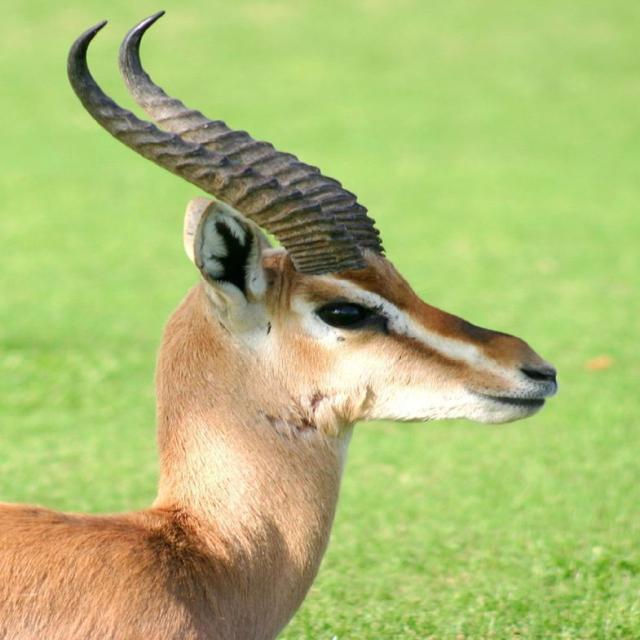deer: (10, 0, 572, 636)
